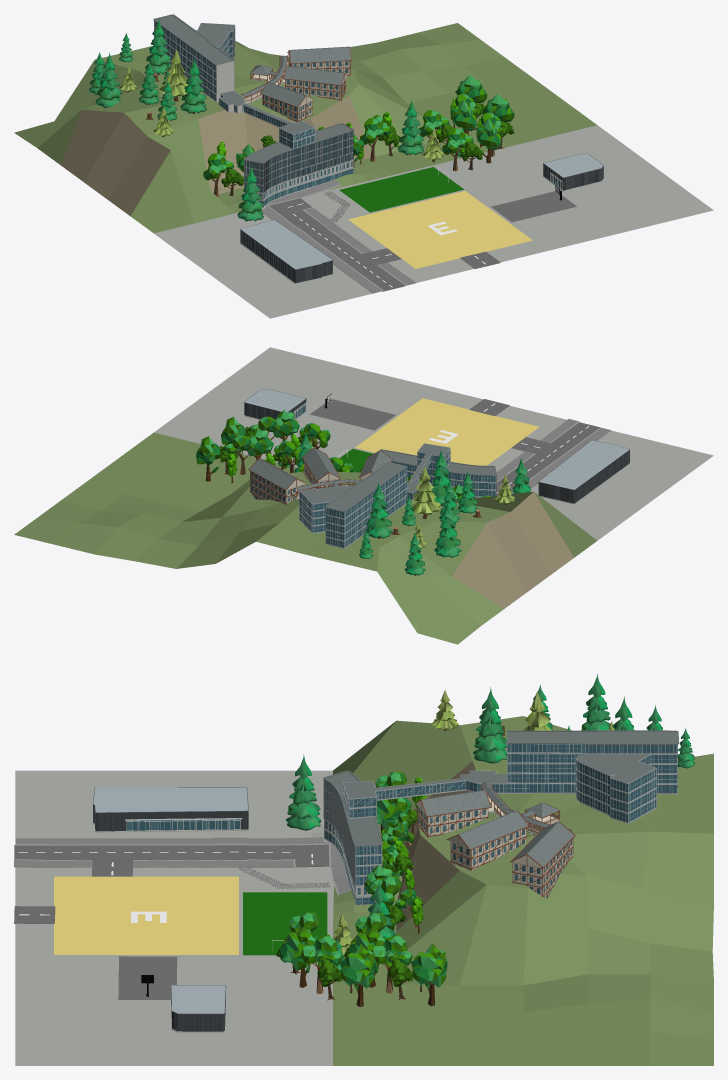
The model's file is modelomejoradojunto.glb.
The picture shows the model from 3 angles, top to bottom: view 1: azimuth 30°, elevation 25°; view 2: azimuth 150°, elevation 25°; view 3: azimuth 270°, elevation 25°; orthographic projection. The views are drawn at different scales.
Visible parts, largest first — view 1: base_terrain, SideWalkFull_Material.003_0.018, g_tree17, pine_tree12, h_tree22, cti_floor1, gym_court1, ebuilding_floor5, hbuilding_floor6, gym_floor1, gym_court2, cabina_floor1 (+11 smaller); view 2: base_terrain, SideWalkFull_Material.003_0.018, pine_tree12, g_tree17, cti_floor1, ebuilding_floor5, gym_floor1, gym_court2, hbuilding_floor6, cabina_floor1, cabinb_floor1, h_tree22 (+6 smaller); view 3: base_terrain, SideWalkFull_Material.003_0.018, g_tree17, cti_floor1, h_tree22, pine_tree12, ebuilding_floor5, gym_court1, gym_floor1, gym_court2, cabinb_floor1, cabina_floor1 (+14 smaller).
Part boxes in pixels (<box>): base_terrain: <box>14,23,713,318</box>; SideWalkFull_Material.003_0.018: <box>261,179,532,293</box>; g_tree17: <box>397,75,514,171</box>; pine_tree12: <box>89,19,206,137</box>; h_tree22: <box>203,112,463,221</box>; cti_floor1: <box>240,219,333,283</box>; gym_court1: <box>339,167,463,212</box>; ebuilding_floor5: <box>153,14,234,72</box>; hbuilding_floor6: <box>243,123,353,170</box>; gym_floor1: <box>543,153,603,191</box>; gym_court2: <box>491,185,576,222</box>; cabina_floor1: <box>287,46,351,68</box>; base_terrain: <box>14,347,713,644</box>; SideWalkFull_Material.003_0.018: <box>355,398,610,495</box>; pine_tree12: <box>359,450,514,575</box>; g_tree17: <box>196,410,330,482</box>; cti_floor1: <box>538,440,630,504</box>; ebuilding_floor5: <box>325,461,407,519</box>; gym_floor1: <box>244,389,306,419</box>; gym_court2: <box>310,393,395,430</box>; hbuilding_floor6: <box>379,449,496,482</box>; cabina_floor1: <box>248,458,306,497</box>; cabinb_floor1: <box>302,447,341,488</box>; h_tree22: <box>278,437,531,500</box>; base_terrain: <box>15,716,713,1065</box>; SideWalkFull_Material.003_0.018: <box>14,837,351,954</box>; g_tree17: <box>276,880,447,1006</box>; cti_floor1: <box>92,787,248,832</box>; h_tree22: <box>286,754,425,971</box>; pine_tree12: <box>431,674,694,768</box>; ebuilding_floor5: <box>506,730,678,754</box>; gym_court1: <box>243,892,327,955</box>; gym_floor1: <box>170,985,226,1032</box>; gym_court2: <box>118,956,177,999</box>; cabinb_floor1: <box>446,810,529,858</box>; cabina_floor1: <box>510,821,575,877</box>.
Size of the model in its own units: 0.8191 by 0.1973 by 0.8206.
60 materials, 18 textured.
